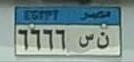6: (29, 28, 41, 51), (17, 29, 29, 51), (55, 28, 66, 51), (42, 28, 53, 51)
noon: (95, 30, 110, 50)
seen: (77, 32, 94, 50)
